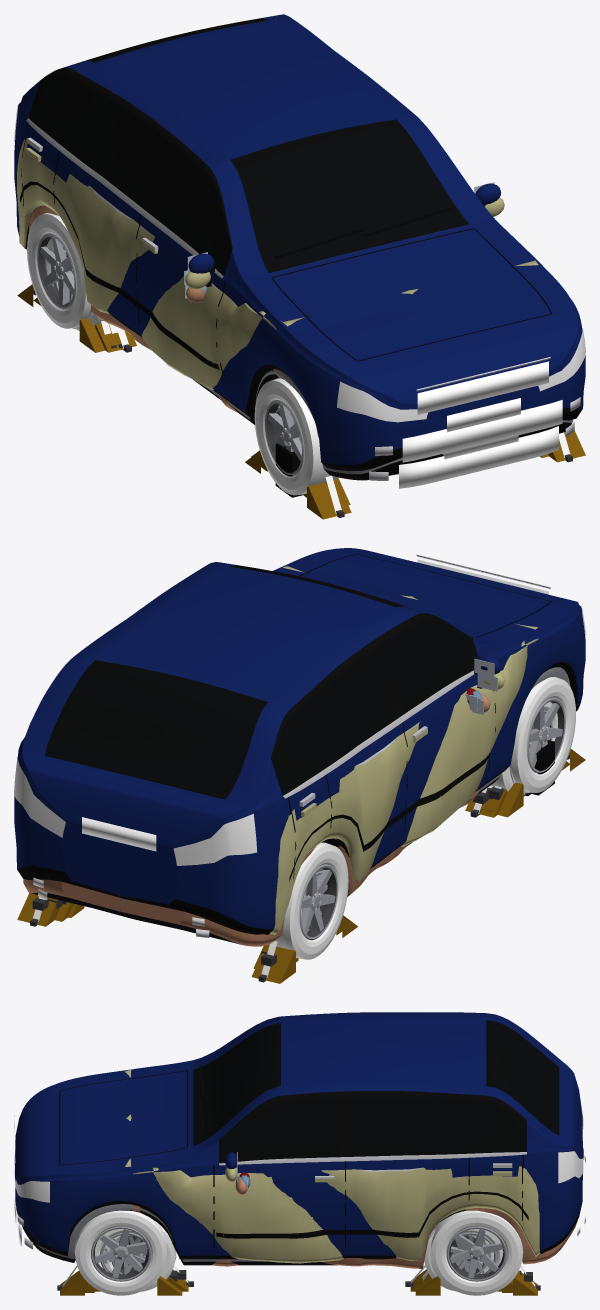
Rendered from ff_cars.dae.
3 views of the same model, one above another, from view 1: azimuth 30°, elevation 25°; view 2: azimuth 150°, elevation 25°; view 3: azimuth 270°, elevation 25° (orthographic). The views are drawn at different scales.
Parts seen in each view (by area): view 1: ff_new_c, ff_wreck_c, ff_new_a, ff_wreck_a, ff_new_b; view 2: ff_new_c, ff_wreck_c, ff_wreck_a, ff_new_a, ff_new_b; view 3: ff_new_c, ff_wreck_c, ff_new_a, ff_wreck_a, ff_new_b.
Part boxes in pixels (x1=…): ff_new_c: x1=14, y1=14, x2=585, y2=519; ff_wreck_c: x1=17, y1=137, x2=538, y2=497; ff_new_a: x1=33, y1=238, x2=574, y2=505; ff_wreck_a: x1=26, y1=205, x2=282, y2=412; ff_new_b: x1=53, y1=250, x2=398, y2=497; ff_new_c: x1=14, y1=548, x2=585, y2=983; ff_wreck_c: x1=270, y1=566, x2=554, y2=935; ff_wreck_a: x1=23, y1=681, x2=536, y2=946; ff_new_a: x1=38, y1=667, x2=570, y2=968; ff_new_b: x1=63, y1=688, x2=549, y2=962; ff_new_c: x1=14, y1=1012, x2=585, y2=1295; ff_wreck_c: x1=125, y1=1069, x2=540, y2=1263; ff_new_a: x1=18, y1=1176, x2=580, y2=1292; ff_wreck_a: x1=132, y1=1180, x2=577, y2=1268; ff_new_b: x1=94, y1=1172, x2=501, y2=1291.
Bounding box in the file's own units: 2.23 × 4.44 × 1.71.
